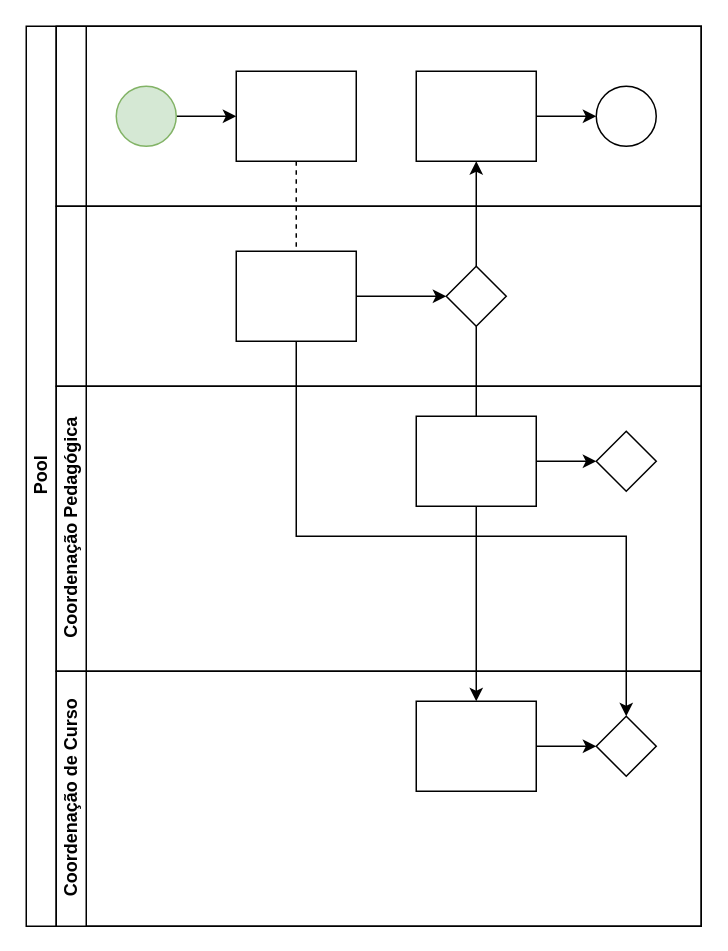
The diagram is 728 pixels wide and 951 high, and some of its shapes have lost their labels. The box of each missing label's shape, as (x1, y1, x2, y2) in pixels:
Professor: (55, 25, 701, 206)
Secretaria: (55, 205, 701, 386)
